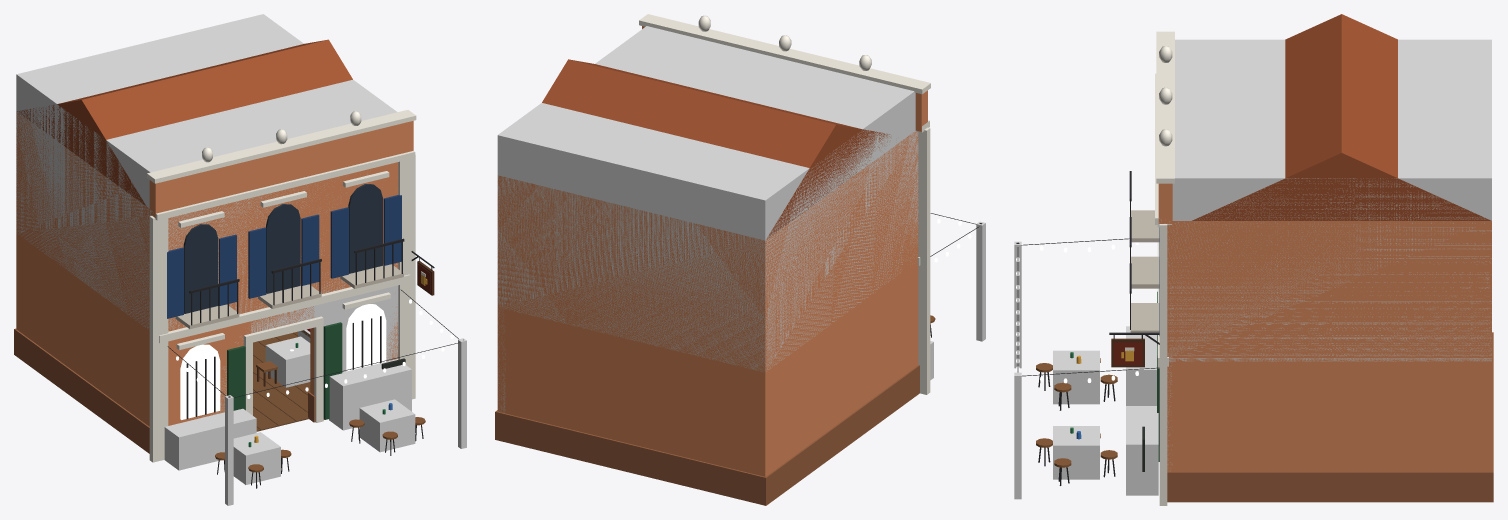
Rendered from taberna_lapa.glb.
3 renders of one model, left to right at view 1: azimuth 30°, elevation 25°; view 2: azimuth 150°, elevation 25°; view 3: azimuth 270°, elevation 25°, orthographic. The views are drawn at different scales.
Parts seen in each view (by area): view 1: taberna_lapa_Malla, COL_6, COL_17, COL_16, COL_13, COL_4, COL_12, COL_11, COL_14, COL_15, COL_5; view 2: taberna_lapa_Malla, COL_6, COL_14; view 3: taberna_lapa_Malla, COL_6, COL_17, COL_12, COL_13, COL_16, COL_15, COL_14.
Part boxes in pixels (x1,y1,x2,y2): taberna_lapa_Malla: (14, 39, 463, 488); COL_6: (16, 14, 397, 331); COL_17: (329, 359, 411, 430); COL_16: (164, 408, 256, 470); COL_13: (359, 399, 415, 452); COL_4: (310, 285, 398, 372); COL_12: (233, 432, 280, 484); COL_11: (265, 336, 310, 387); COL_14: (225, 395, 233, 505); COL_15: (458, 338, 466, 448); COL_5: (251, 306, 314, 333); taberna_lapa_Malla: (495, 14, 982, 505); COL_6: (497, 26, 918, 371); COL_14: (976, 221, 985, 341); taberna_lapa_Malla: (1016, 14, 1493, 505); COL_6: (1167, 39, 1491, 361); COL_17: (1126, 406, 1158, 495); COL_12: (1053, 350, 1099, 404); COL_13: (1053, 426, 1099, 479); COL_16: (1126, 326, 1156, 405); COL_15: (1014, 372, 1021, 499); COL_14: (1014, 241, 1021, 368).
Size of the model in its own units: 7.44 by 8.2 by 10.22.
